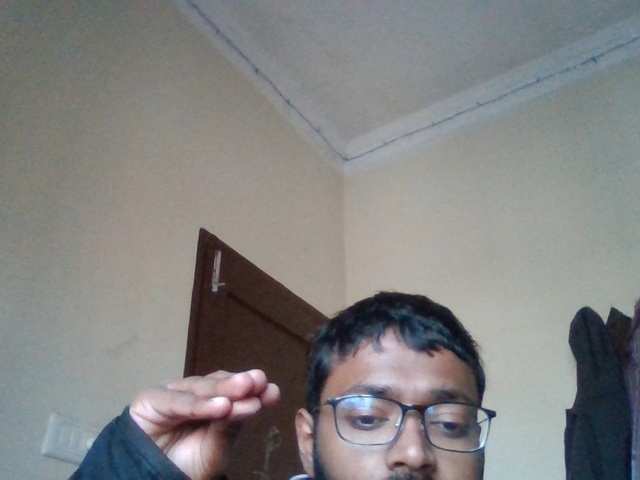no: (103, 327, 297, 468)
